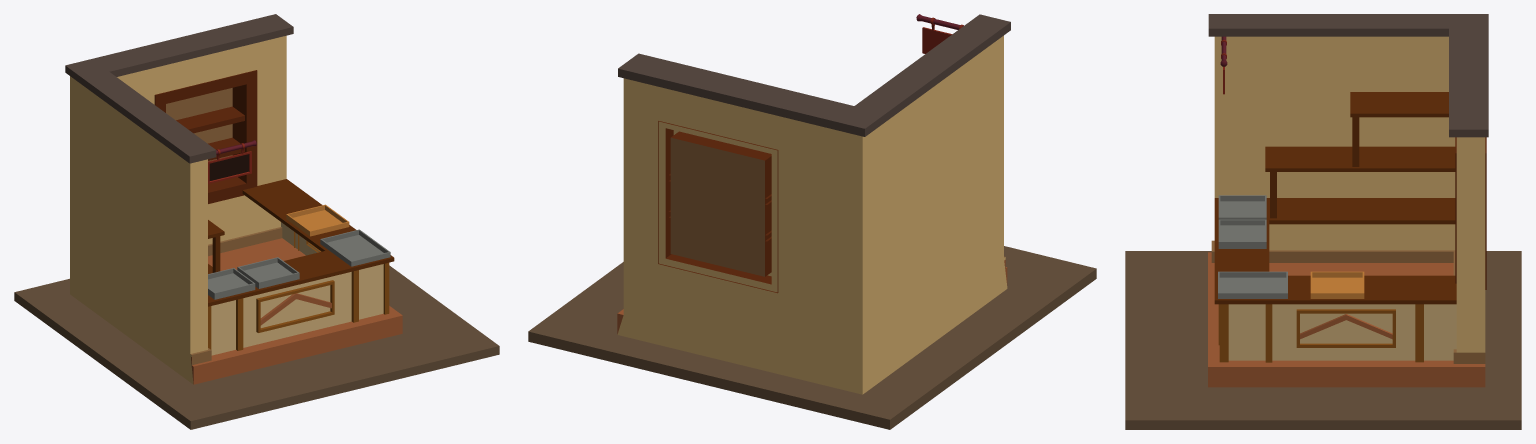
The model's file is Sweets-desert-Bites-2.fbx.
3 renders of one model, left to right at view 1: azimuth 30°, elevation 25°; view 2: azimuth 150°, elevation 25°; view 3: azimuth 270°, elevation 25°, orthographic. The views are drawn at different scales.
Visible parts, largest first — view 1: Cube.028; view 2: Cube.028; view 3: Cube.028.
Part boxes in pixels (x1=…): Cube.028: x1=14, y1=14, x2=499, y2=429; Cube.028: x1=528, y1=14, x2=1096, y2=429; Cube.028: x1=1125, y1=14, x2=1521, y2=429.
Bounding box in the file's own units: 715 × 525 × 707.
